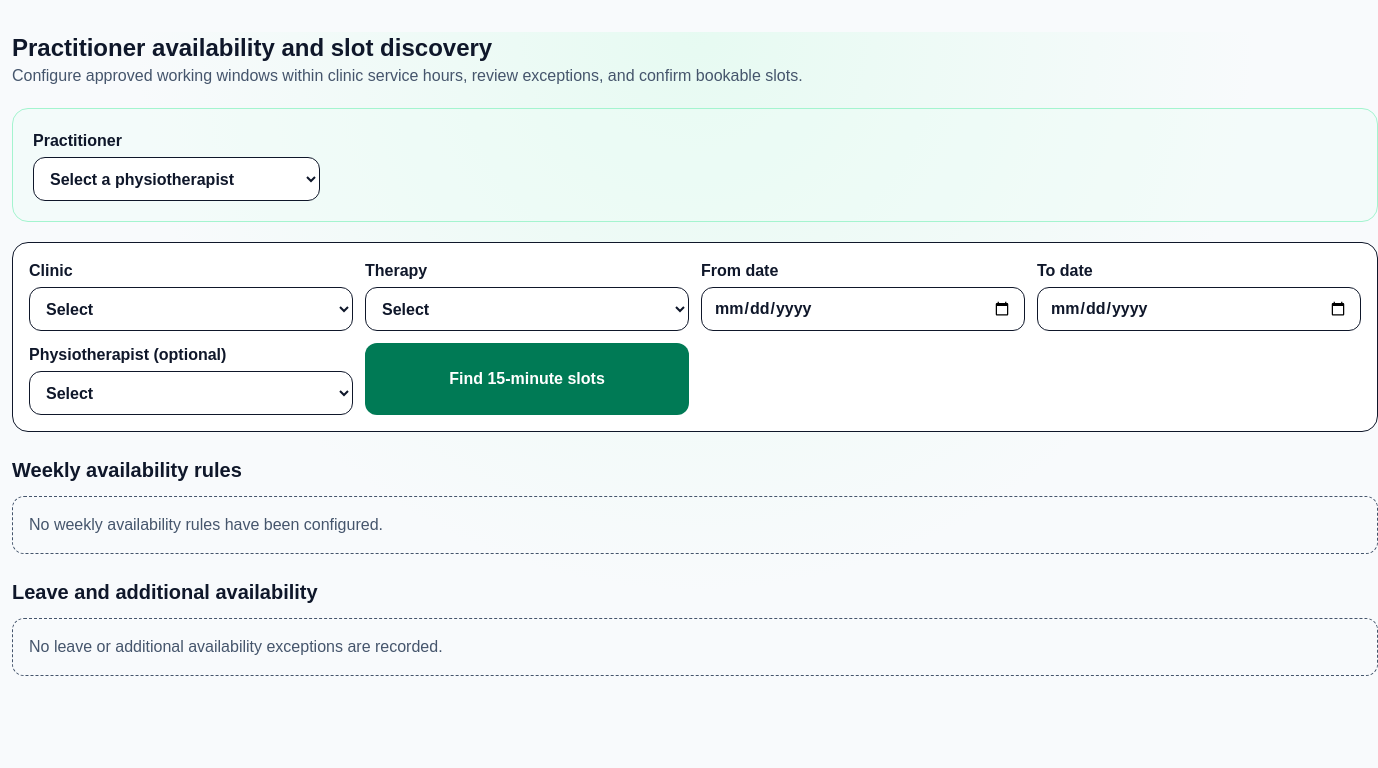
Test case: availability management › provides practical scheduling forms and slot discovery
Check: the form named "Find appointment slots" is shown, box x1=12 y1=242 x2=1377 y2=432
Check: the button "Find 15-minute slots" is shown, box x1=365 y1=343 x2=689 y2=415
Step 1. Select "Dr Asha · NuriPain Ease Meerut" in the dropdown named "Practitioner to manage" → (176, 179), box x1=33 y1=157 x2=320 y2=201
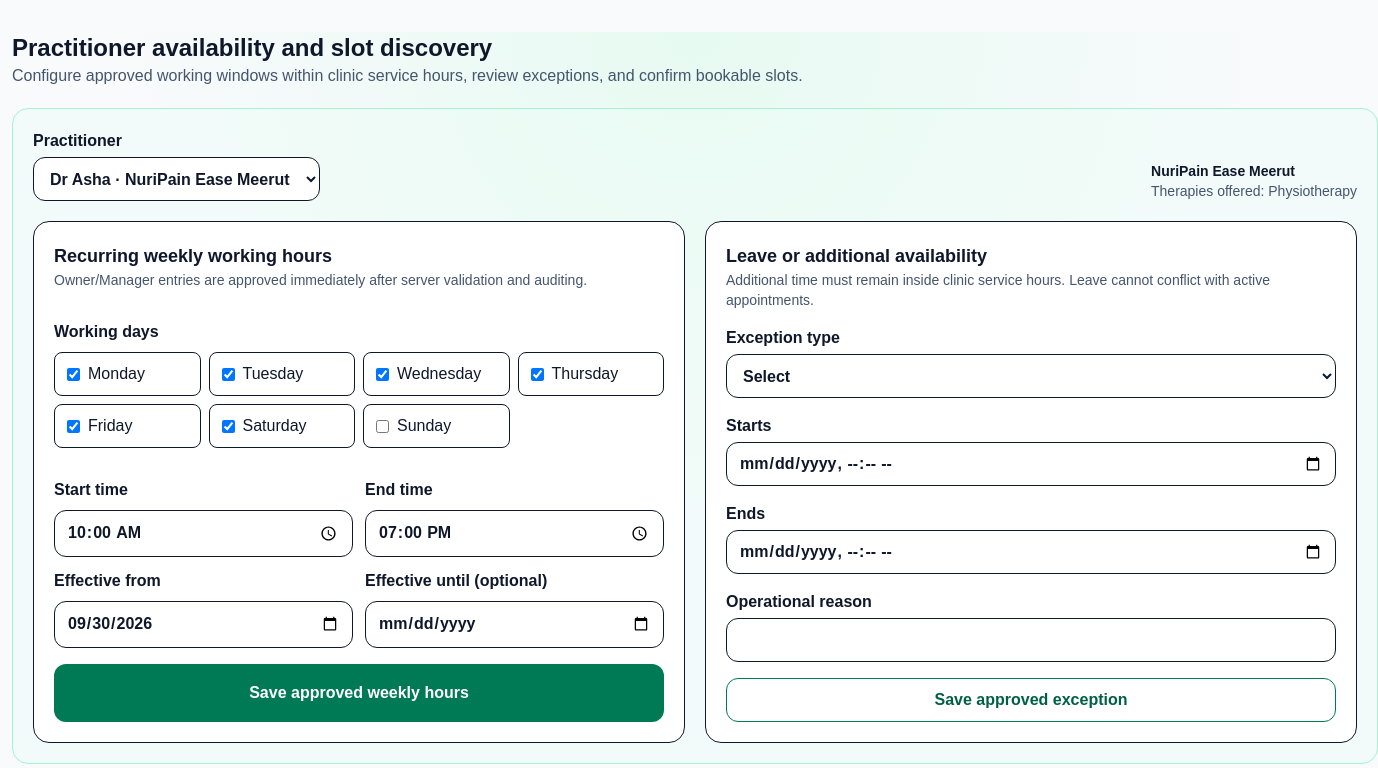
Check: the form named "Configure weekly availability" is shown, box x1=33 y1=221 x2=685 y2=743
Check: the form named "Add availability exception" is shown, box x1=705 y1=221 x2=1357 y2=743
Check: the text "Therapies offered: Physiotherapy" is shown, box x1=1151 y1=181 x2=1357 y2=201
